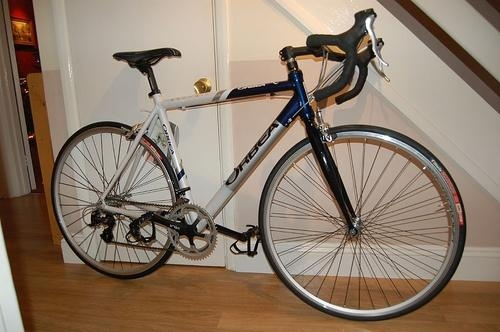bicycle: (52, 9, 469, 323)
